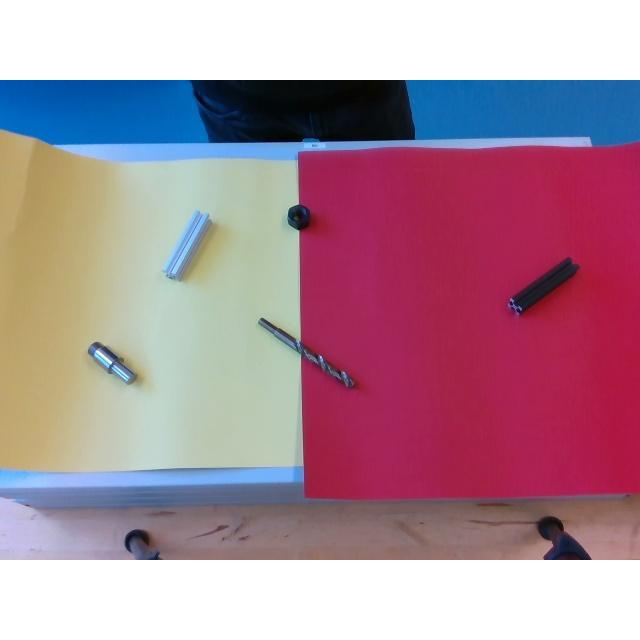Axis2: (87, 342, 137, 386)
Drill: (258, 319, 354, 387)
F20_20_B: (508, 258, 578, 312)
F20_20_G: (162, 210, 210, 278)
M20: (286, 204, 310, 228)
